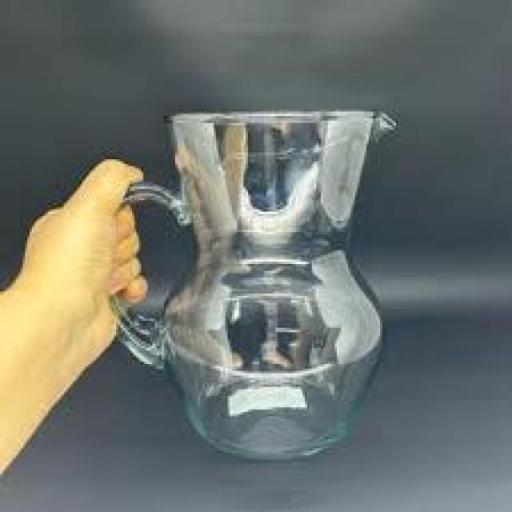glass: (108, 107, 396, 460)
